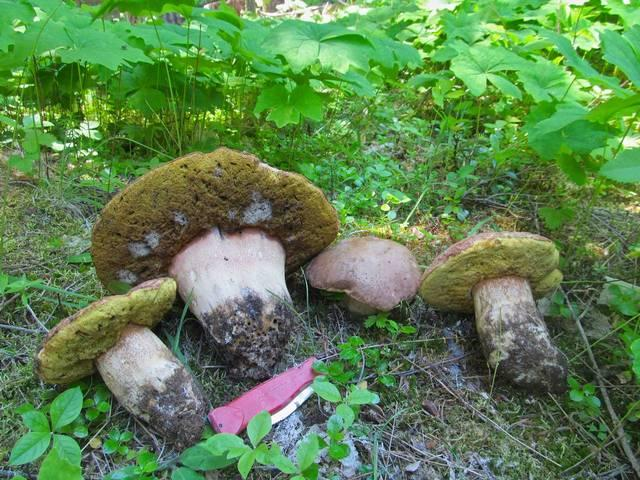Edible Mushroom: (89, 145, 340, 381), (33, 275, 210, 445), (418, 229, 569, 393), (304, 234, 421, 318)
